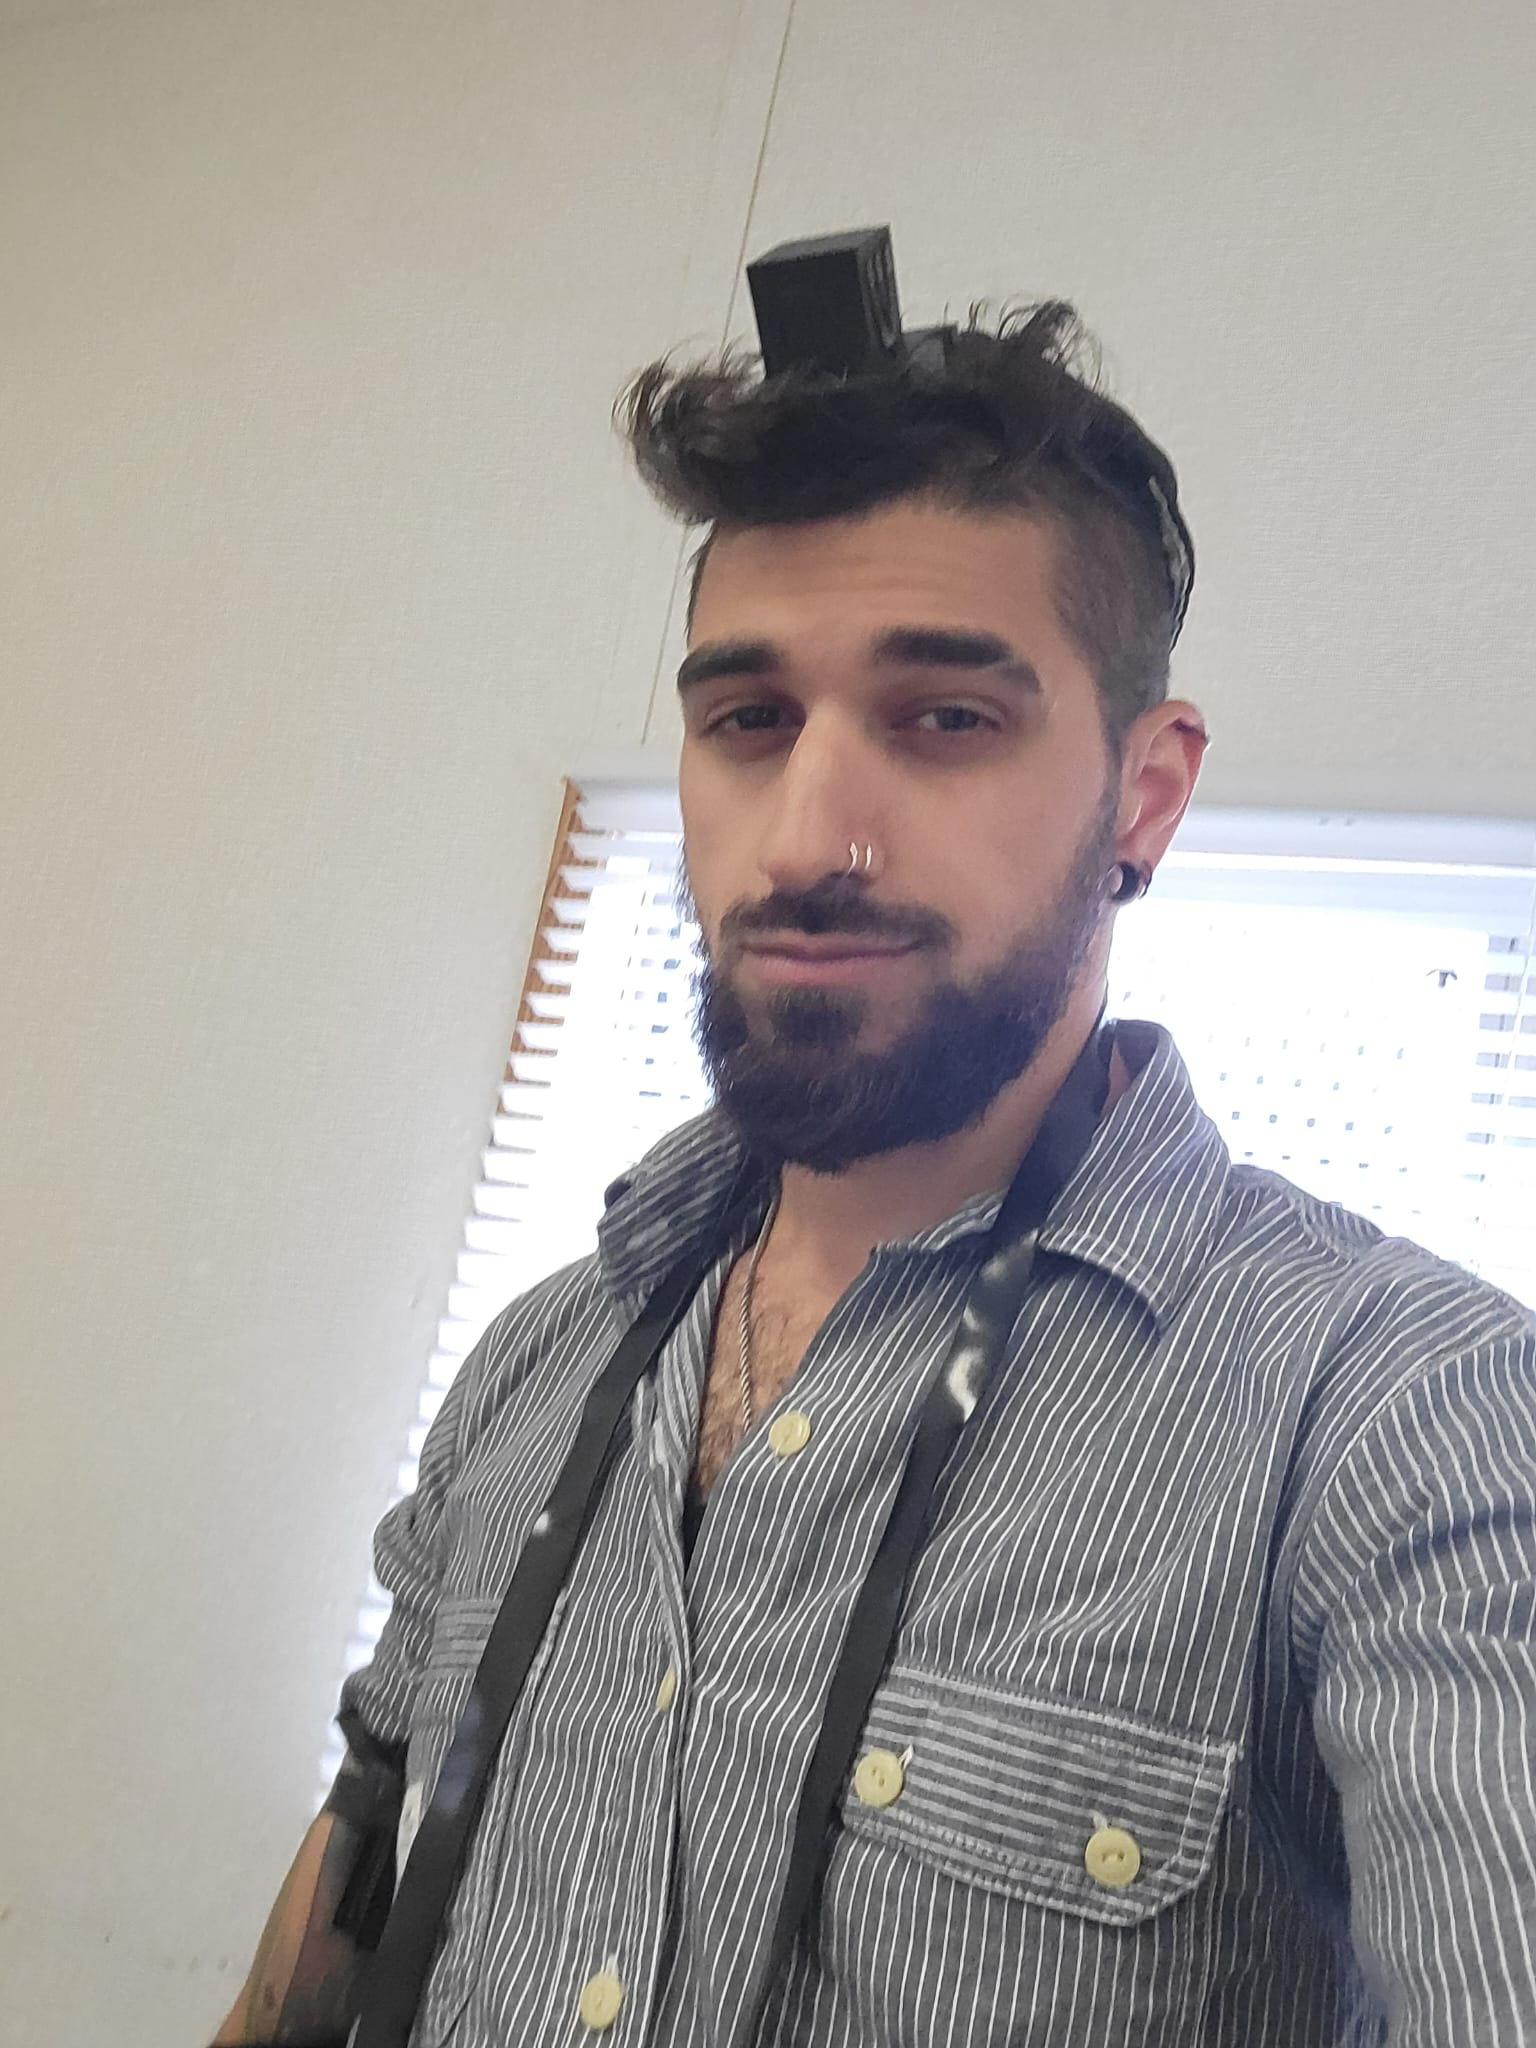tefillin: (734, 226, 937, 419)
